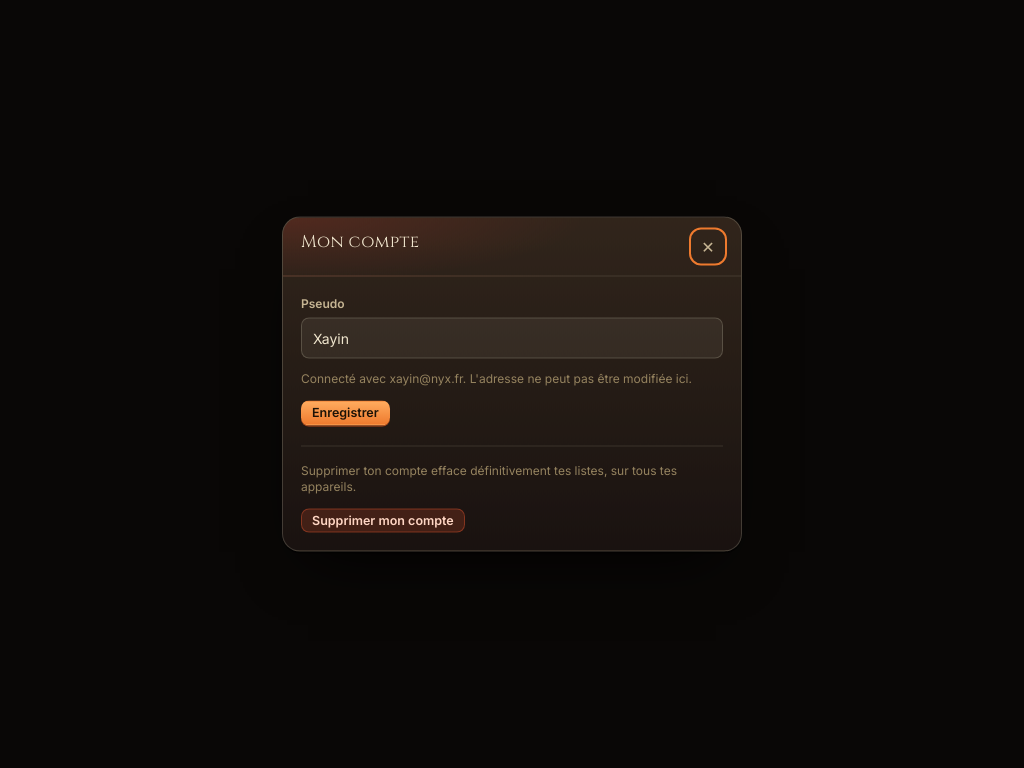
Scenario: AccountDialog › affiche l'erreur si le serveur refuse le pseudo
Click the button "Enregistrer": (345, 413) [301,400,390,425]
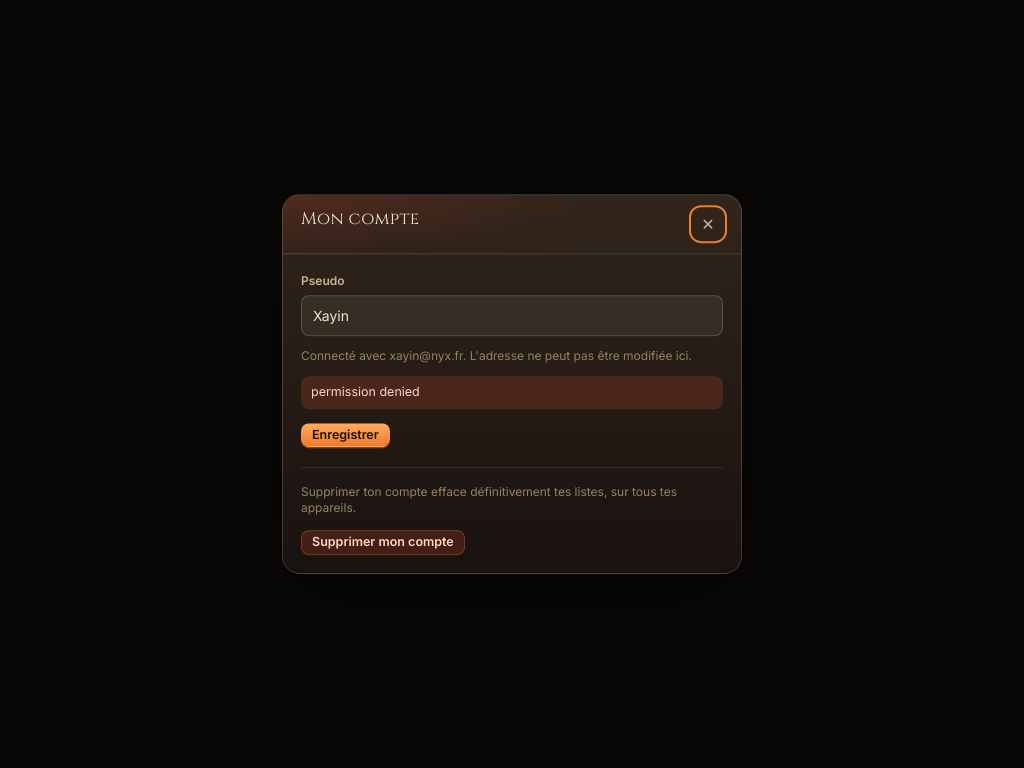
Check: the message "permission denied" is shown, box [301,376,723,409]
